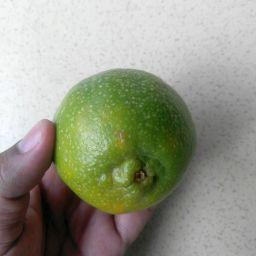Unripe: (56, 69, 194, 215)
